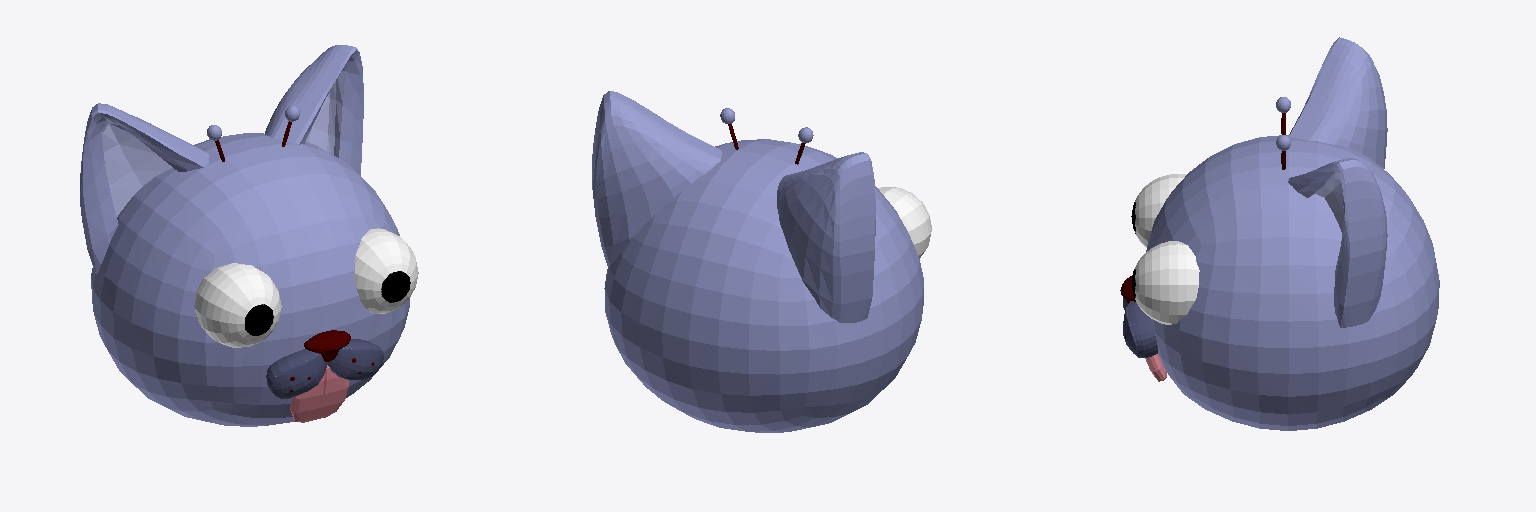
The picture shows the model from 3 angles: view 1: azimuth 30°, elevation 25°; view 2: azimuth 150°, elevation 25°; view 3: azimuth 270°, elevation 25°; orthographic projection.
Visible parts, largest first — view 1: gato; view 2: gato; view 3: gato.
Part boxes in pixels (x1,y1,x2,y2): gato: (80, 45, 418, 426); gato: (592, 91, 931, 432); gato: (1120, 37, 1439, 430).
Bounding box in the file's own units: 7.05 × 7.42 × 6.89.
1 materials, 1 textured.